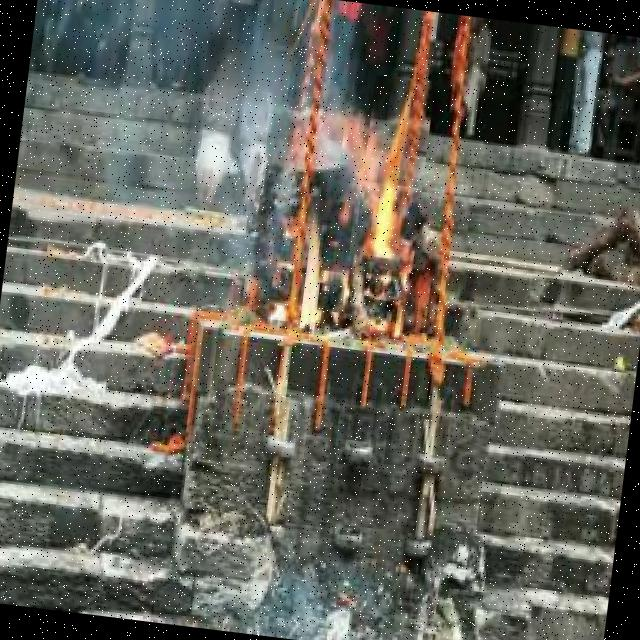fire: (352, 74, 435, 273)
